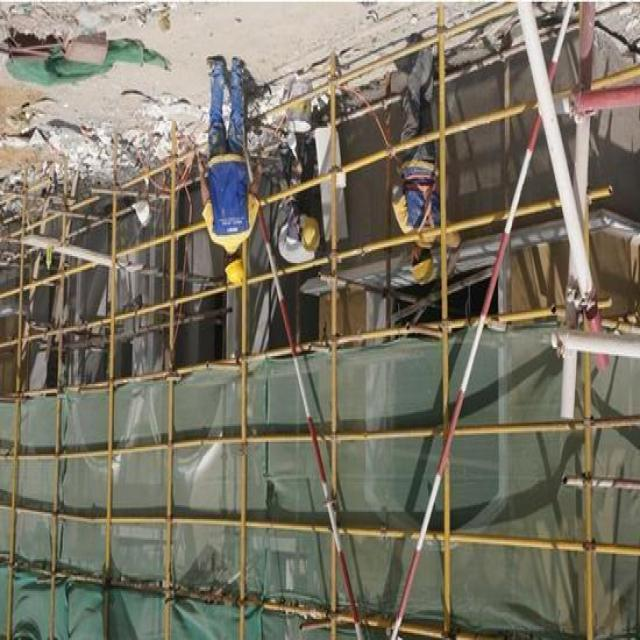helmet: (218, 259, 248, 287), (410, 258, 436, 290), (302, 218, 322, 254)
